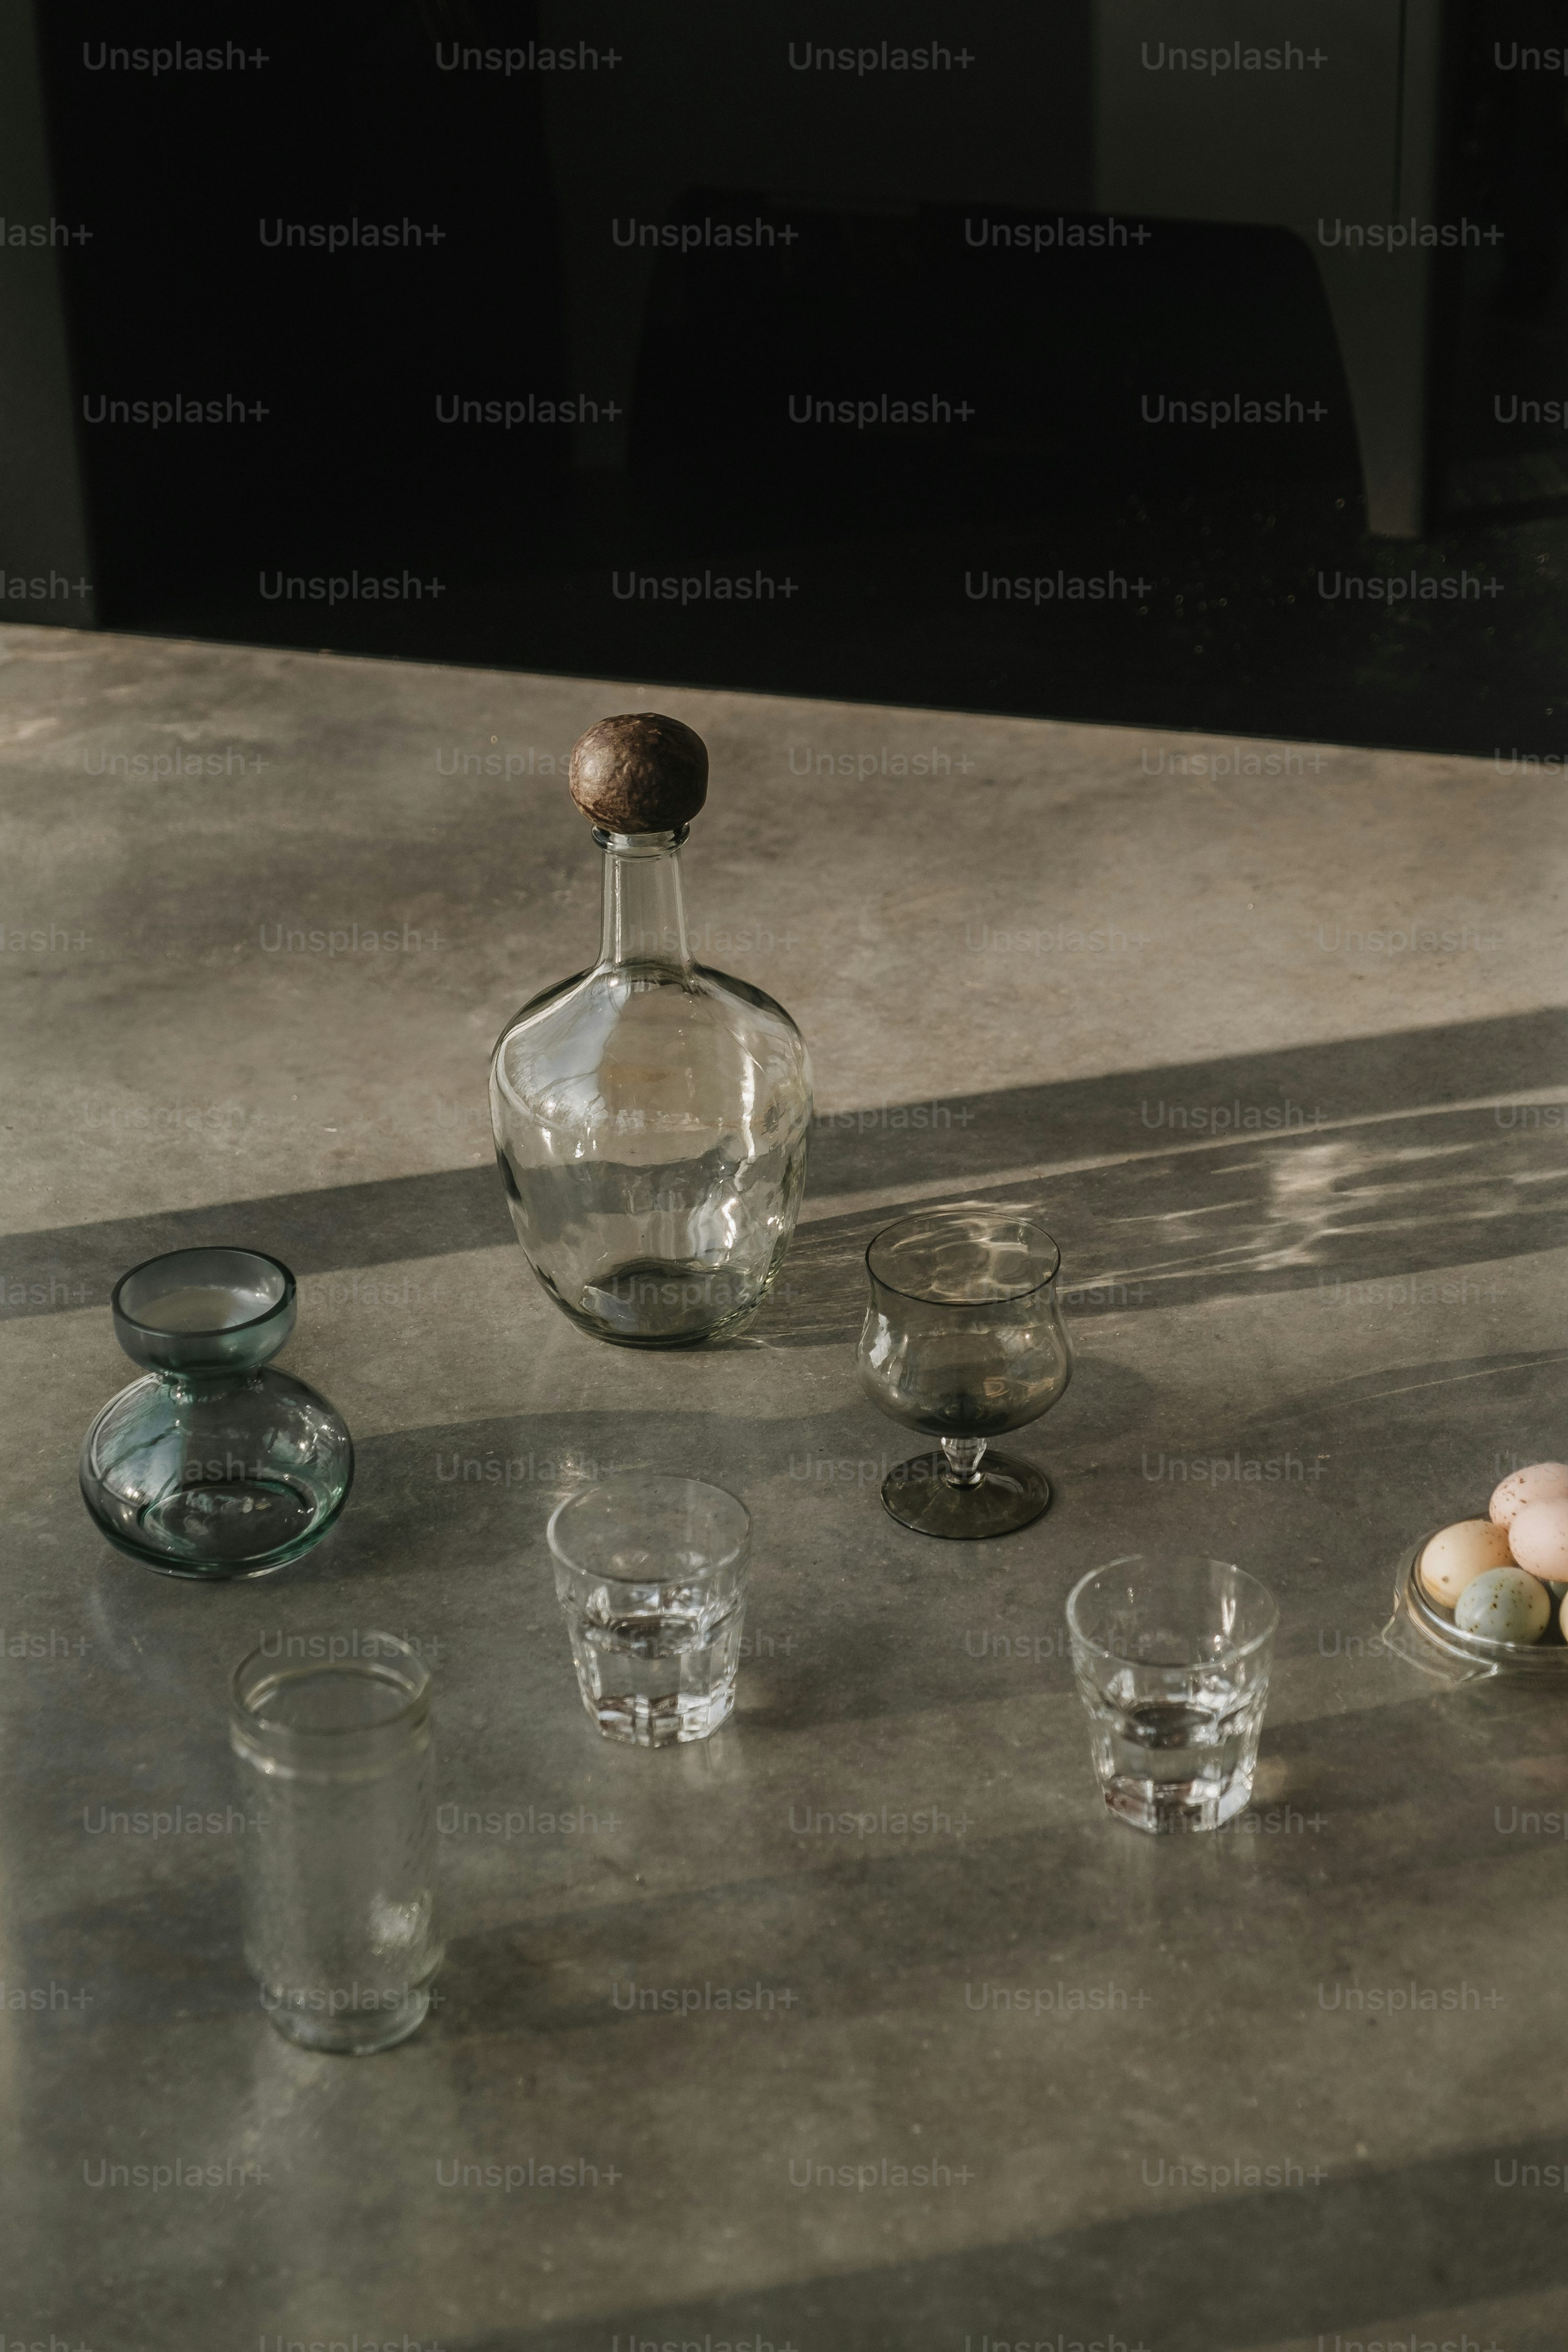glass_bottle: (455, 689, 843, 1382)
